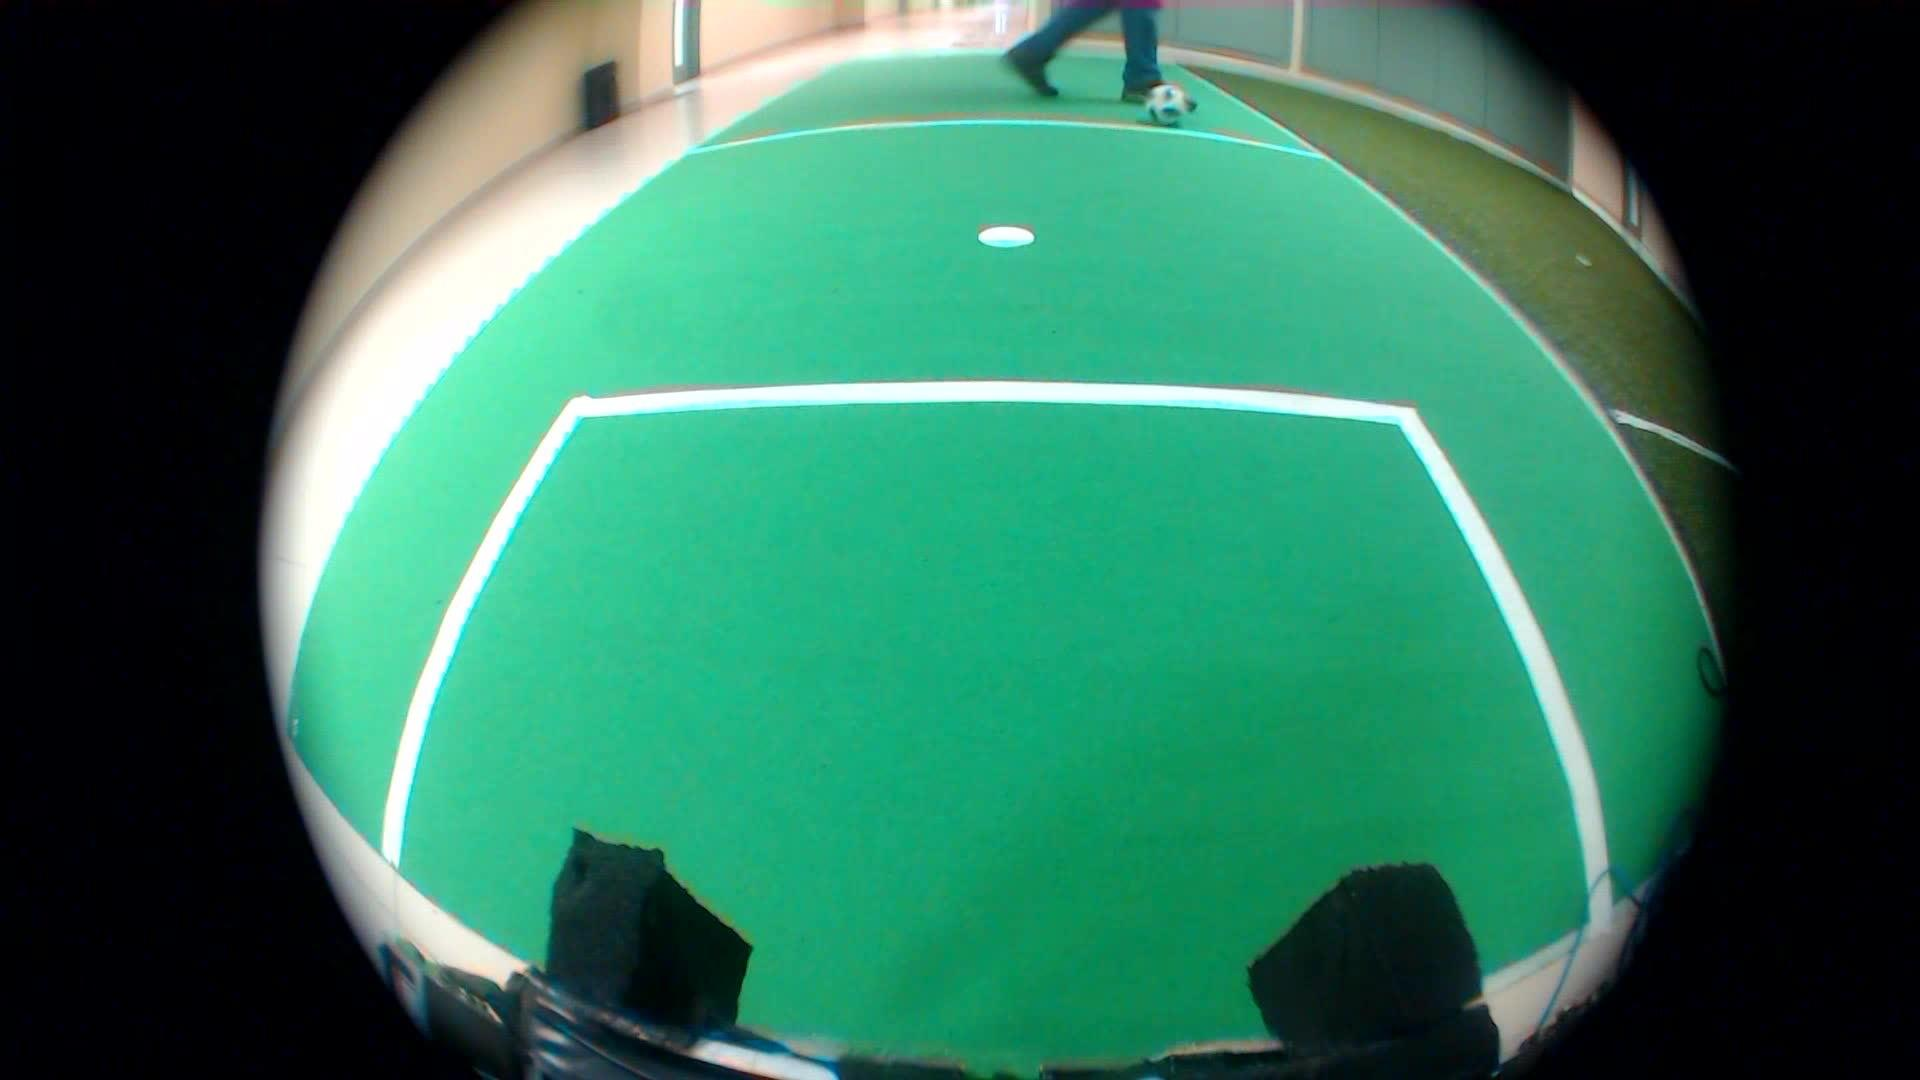ball: (1146, 76, 1196, 128)
